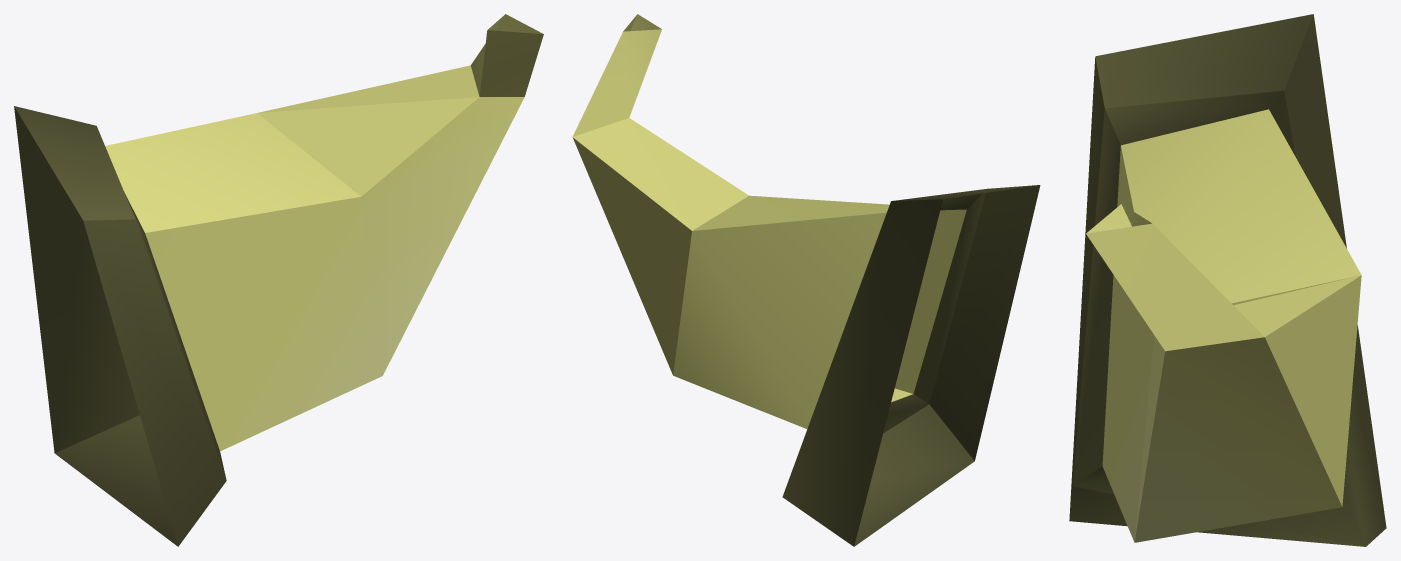
File: c_tower_attachment_ab.fbx
3 renders of one model, left to right at view 1: azimuth 30°, elevation 25°; view 2: azimuth 150°, elevation 25°; view 3: azimuth 270°, elevation 25°, orthographic. The views are drawn at different scales.
Parts seen in each view (by area): view 1: c_tower_attachment_ab; view 2: c_tower_attachment_ab; view 3: c_tower_attachment_ab.
Boxes of the visible parts, x1,y1,x2,y2 form: c_tower_attachment_ab: (14,14,543,546); c_tower_attachment_ab: (572,14,1040,546); c_tower_attachment_ab: (1069,14,1386,546).
Size of the model in its own units: 7.31 by 6.29 by 3.49.
